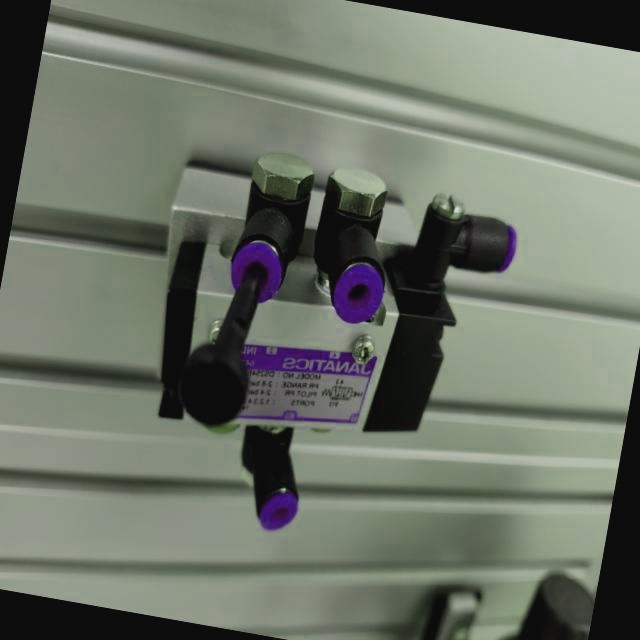5by2 DCV: (99, 122, 533, 572)
